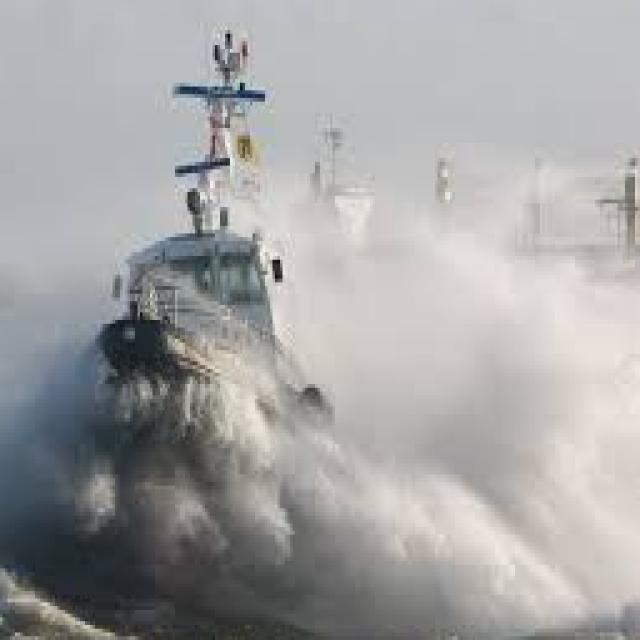navalvessels: (70, 35, 360, 601)
